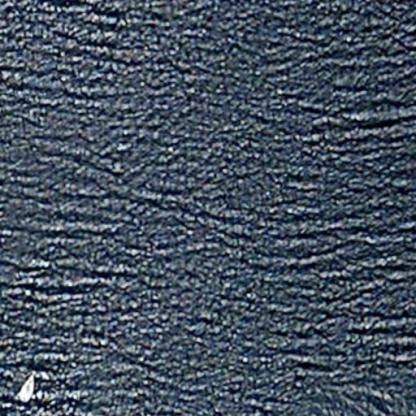ship: (12, 360, 42, 409)
